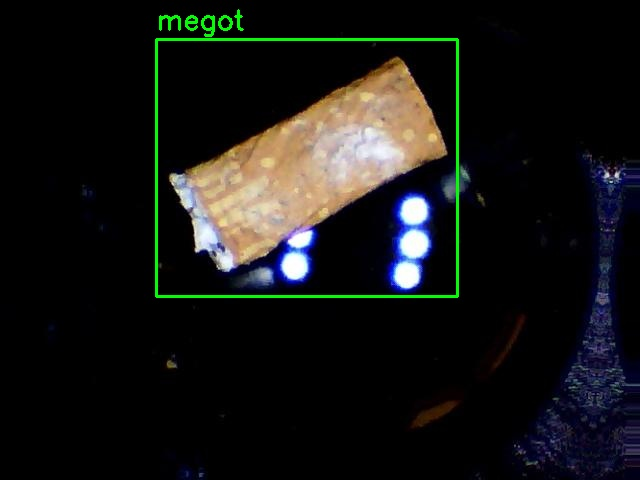megot: (156, 39, 457, 296)
